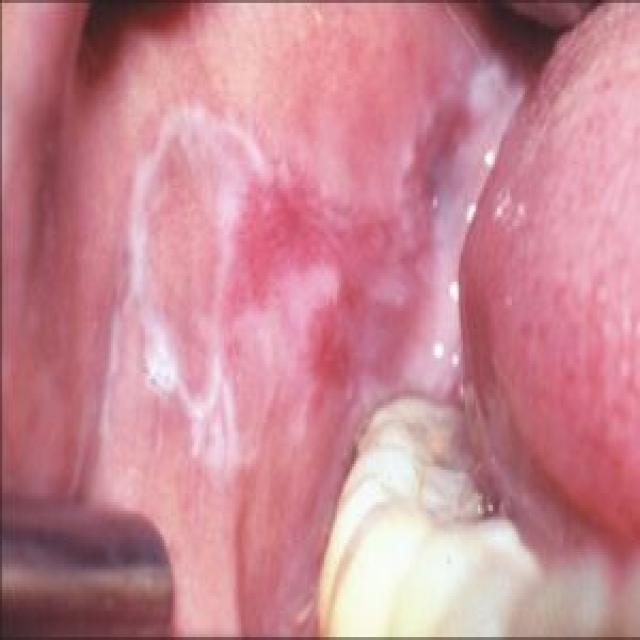leukoplakia-like-detection: (85, 59, 530, 487)
processing_area: (2, 0, 638, 634)
